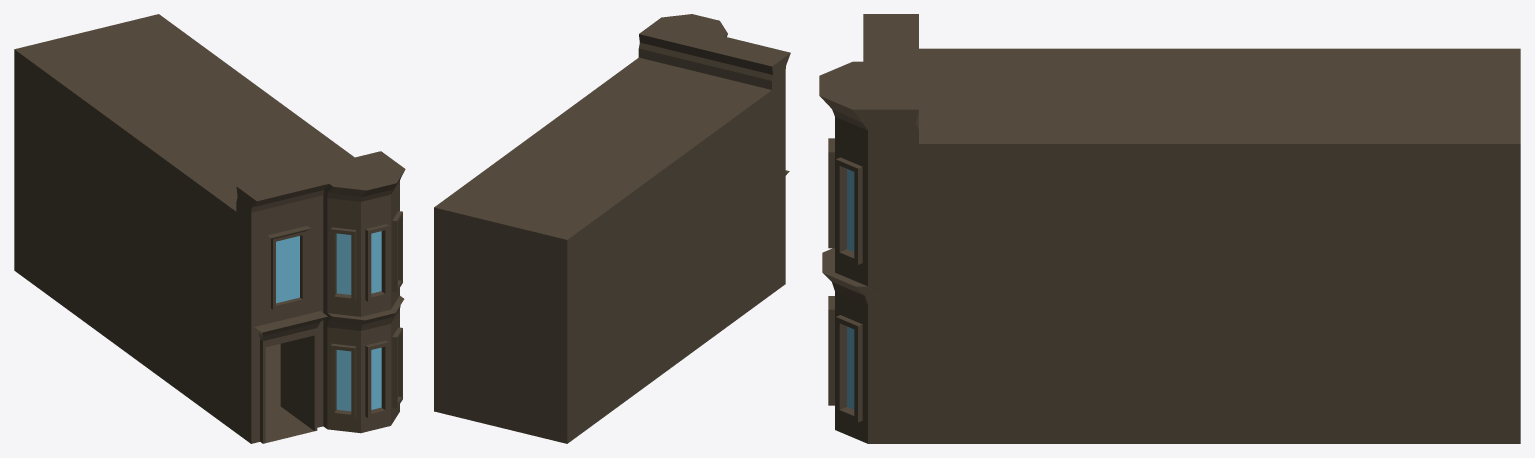
The model's file is SF_house.fbx.
The picture shows the model from 3 angles, left to right: view 1: azimuth 30°, elevation 25°; view 2: azimuth 150°, elevation 25°; view 3: azimuth 270°, elevation 25°; orthographic projection. The views are drawn at different scales.
Parts seen in each view (by area): view 1: Cube.001; view 2: Cube.001; view 3: Cube.001.
Part boxes in pixels (bbox=[...]): Cube.001: bbox=[14, 14, 405, 443]; Cube.001: bbox=[434, 14, 790, 443]; Cube.001: bbox=[819, 14, 1520, 443].
Size of the model in its own units: 297 by 484 by 920.
